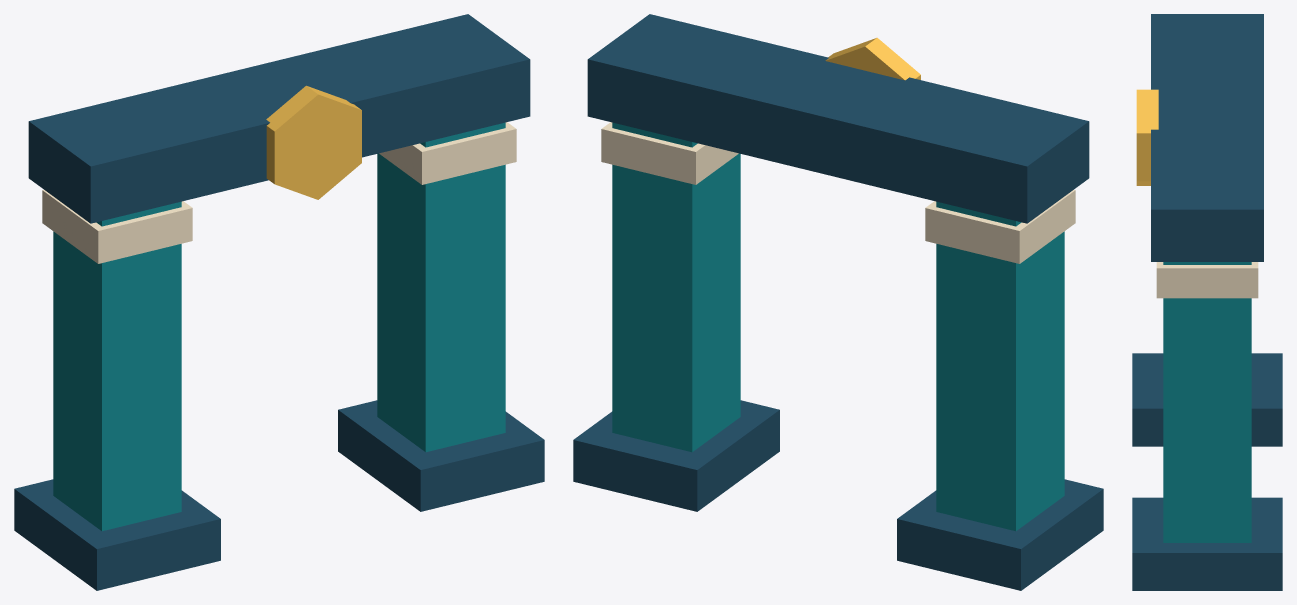
The model's file is stage-gate.glb.
3 views of the same model, side by side, from view 1: azimuth 30°, elevation 25°; view 2: azimuth 150°, elevation 25°; view 3: azimuth 270°, elevation 25° (orthographic). The views are drawn at different scales.
Visible parts, largest first — view 1: Lintel, Column.001, Column, Footing, Footing.001, Seal, Band, Band.001; view 2: Lintel, Column.001, Column, Footing, Footing.001, Band, Band.001, Seal; view 3: Lintel, Column.001, Footing.001, Footing, Band.001, Seal.
Part boxes in pixels (x1=…): Lintel: x1=28, y1=14, x2=530, y2=223; Column.001: x1=377, y1=122, x2=505, y2=452; Column: x1=53, y1=201, x2=181, y2=531; Footing: x1=14, y1=479, x2=220, y2=590; Footing.001: x1=338, y1=400, x2=544, y2=511; Seal: x1=266, y1=85, x2=361, y2=199; Band: x1=42, y1=190, x2=192, y2=263; Band.001: x1=379, y1=122, x2=516, y2=184; Lintel: x1=587, y1=14, x2=1089, y2=223; Column.001: x1=612, y1=122, x2=740, y2=452; Column: x1=936, y1=201, x2=1064, y2=531; Footing: x1=897, y1=479, x2=1103, y2=590; Footing.001: x1=573, y1=400, x2=779, y2=511; Band: x1=925, y1=190, x2=1075, y2=263; Band.001: x1=601, y1=122, x2=738, y2=184; Seal: x1=825, y1=37, x2=920, y2=80; Lintel: x1=1151, y1=14, x2=1263, y2=261; Column.001: x1=1163, y1=262, x2=1251, y2=542; Footing.001: x1=1132, y1=497, x2=1282, y2=590; Footing: x1=1132, y1=353, x2=1282, y2=446; Band.001: x1=1156, y1=262, x2=1258, y2=298; Seal: x1=1136, y1=89, x2=1158, y2=185.
Size of the model in its own units: 2.13 by 2 by 0.68.
